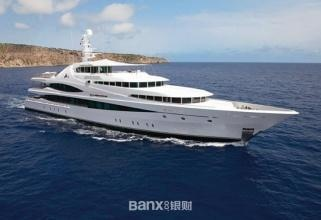yacht: (21, 22, 301, 145)
